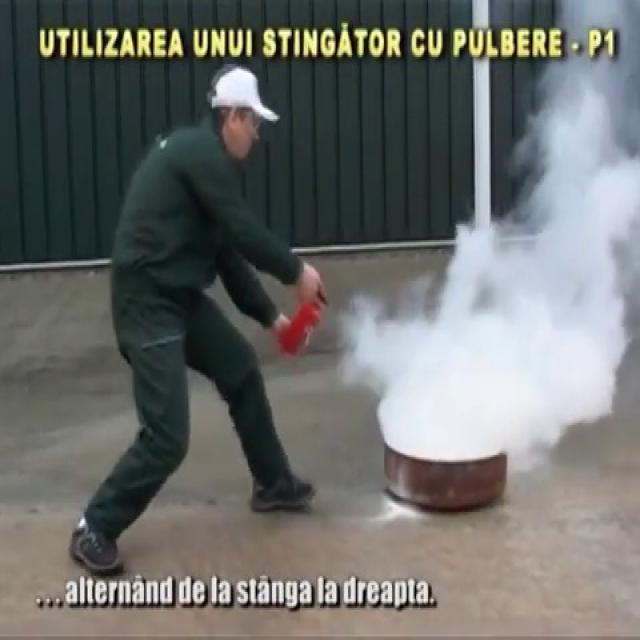Smoke: (343, 15, 640, 476)
